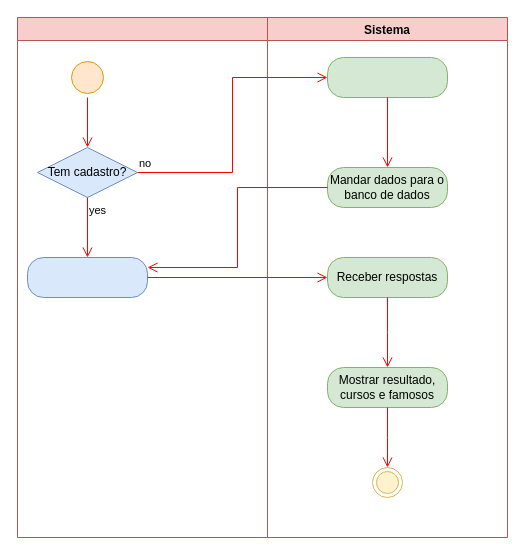
Image size: 525x555. Some labels were removed from this diagram. Here are the shapes that lost their labels. From the top down, the box of each, then its label:
(326, 56, 448, 98): Fazer cadastro
(26, 256, 148, 298): Fazer o quiz
(16, 16, 268, 538): Usuario
